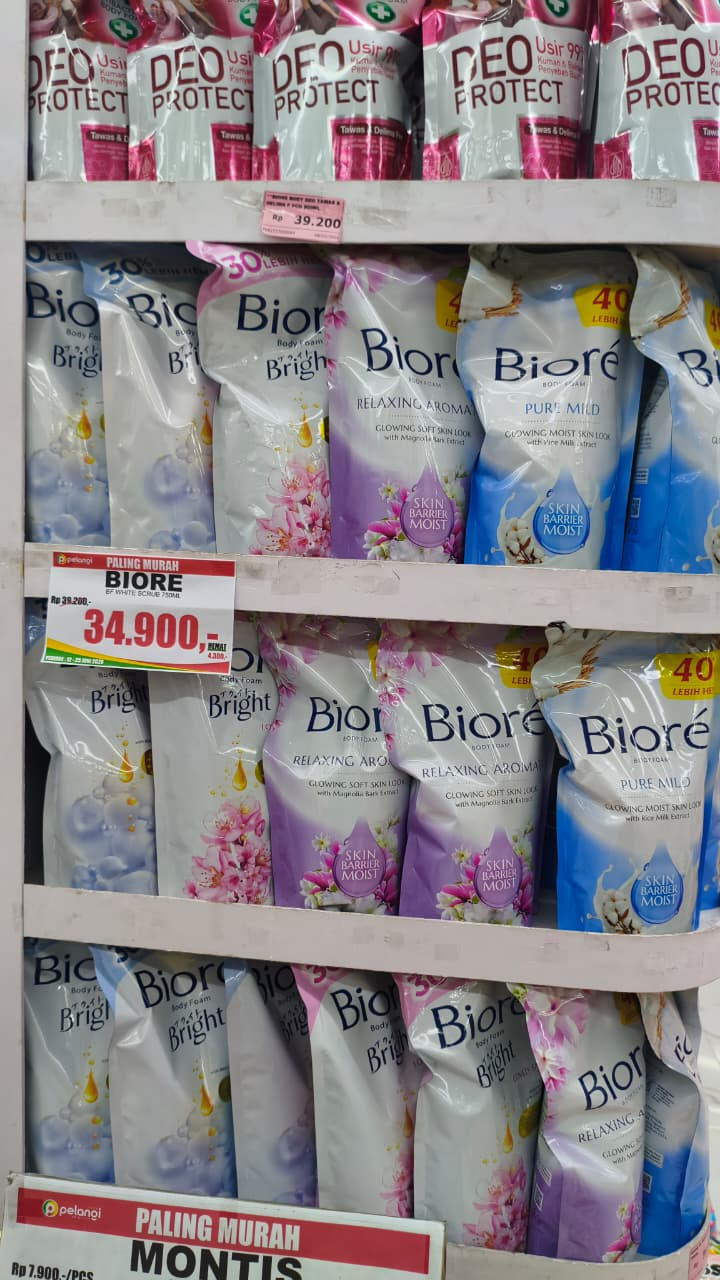Biore: (549, 645, 720, 816)
Deo Frotect: (419, 16, 574, 171)
